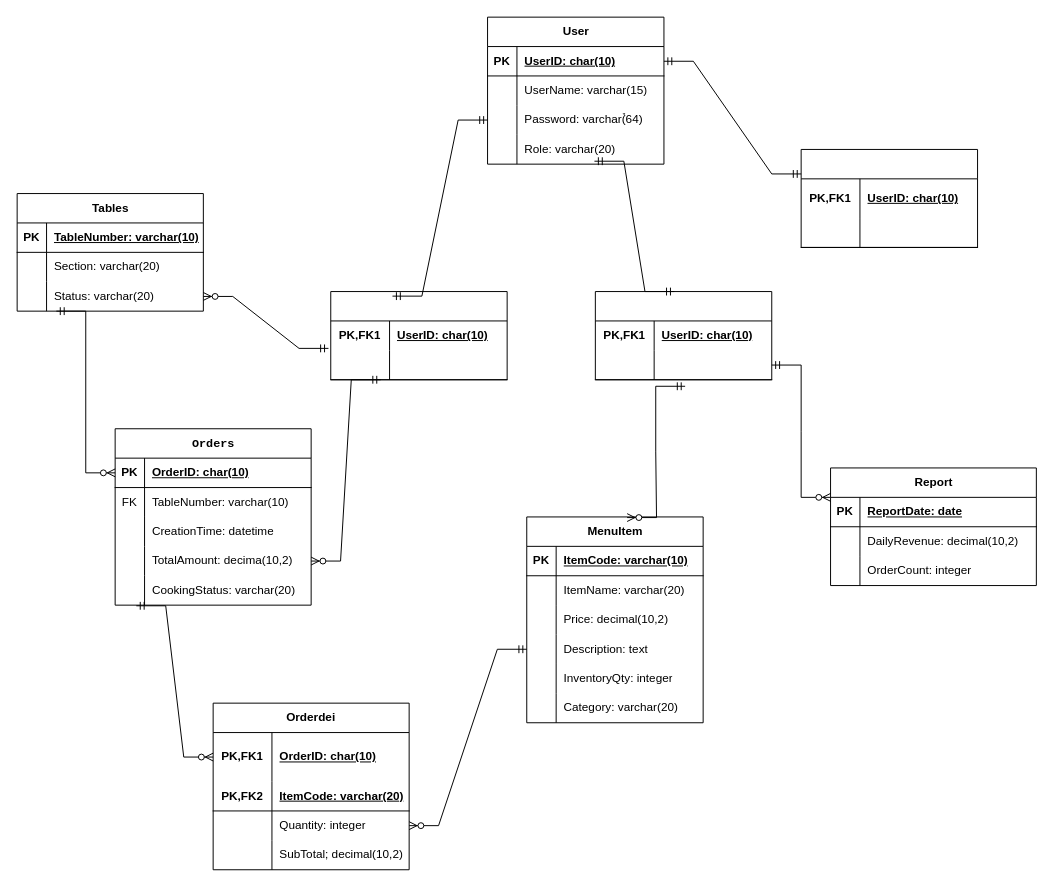
This 1054x887 diagram has some shape labels left out. The box of each missing label's shape, as (x1, y1, x2, y2) in pixels:
Admin: (594, 291, 772, 380)
Chef: (800, 148, 978, 247)
Waiter: (330, 291, 507, 380)
